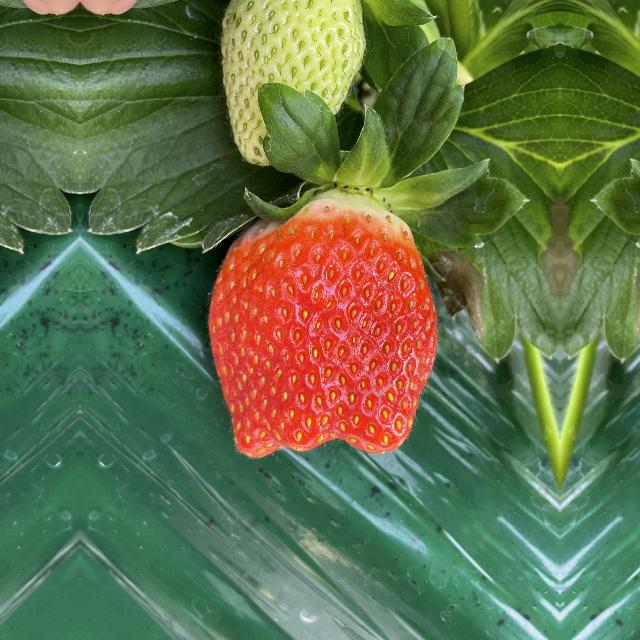Health_100: (204, 194, 446, 471)
Health_25: (220, 0, 370, 166)
